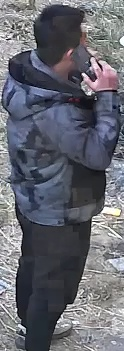phone: (31, 3, 119, 173)
